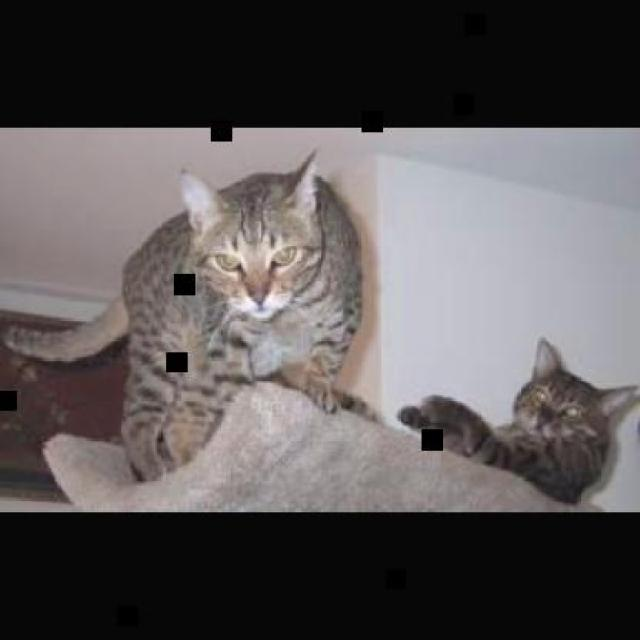unauthorized: (0, 146, 385, 483), (397, 336, 638, 504)
